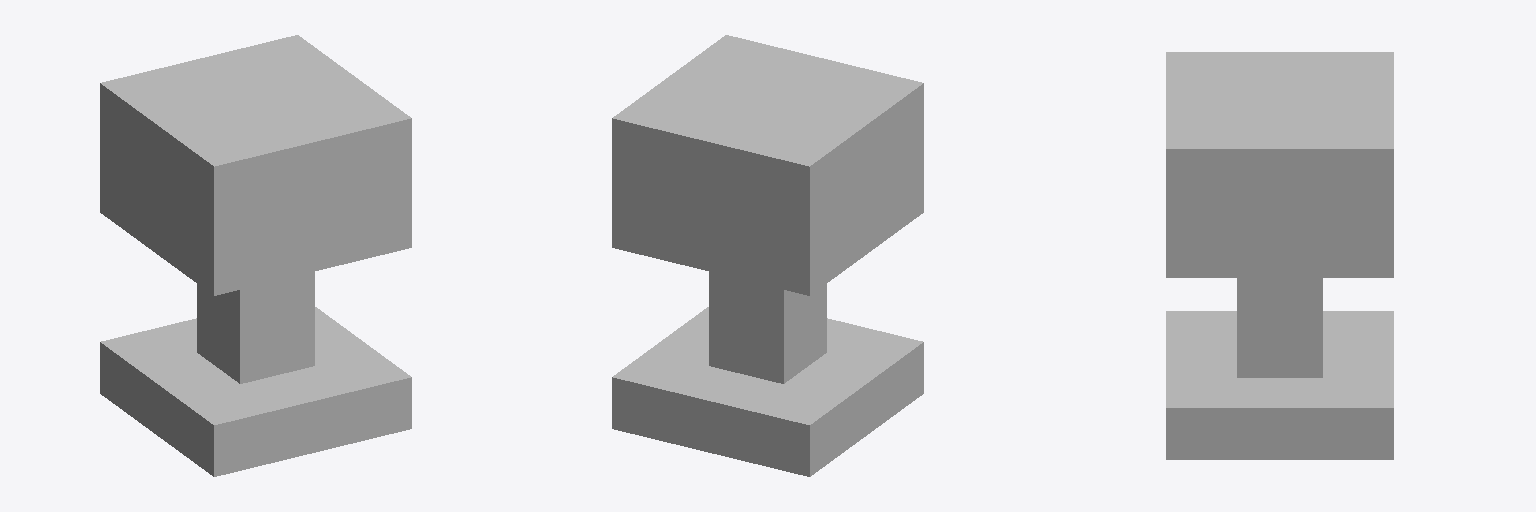
Rendered from tree2.obj.
The picture shows the model from 3 angles: view 1: azimuth 30°, elevation 25°; view 2: azimuth 150°, elevation 25°; view 3: azimuth 270°, elevation 25°; orthographic projection.
Parts seen in each view (by area): view 1: object 1; view 2: object 1; view 3: object 1.
Boxes of the visible parts, x1=… form: object 1: x1=100, y1=35, x2=411, y2=476; object 1: x1=612, y1=35, x2=923, y2=476; object 1: x1=1166, y1=52, x2=1393, y2=459.
Size of the model in its own units: 1.6 by 2.4 by 1.6.